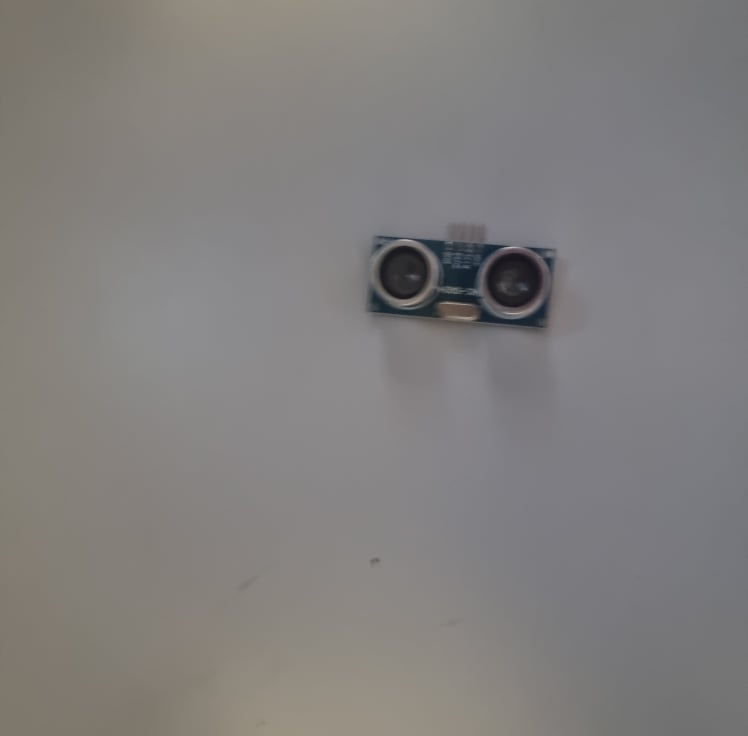SENSOR: (366, 222, 558, 334)
